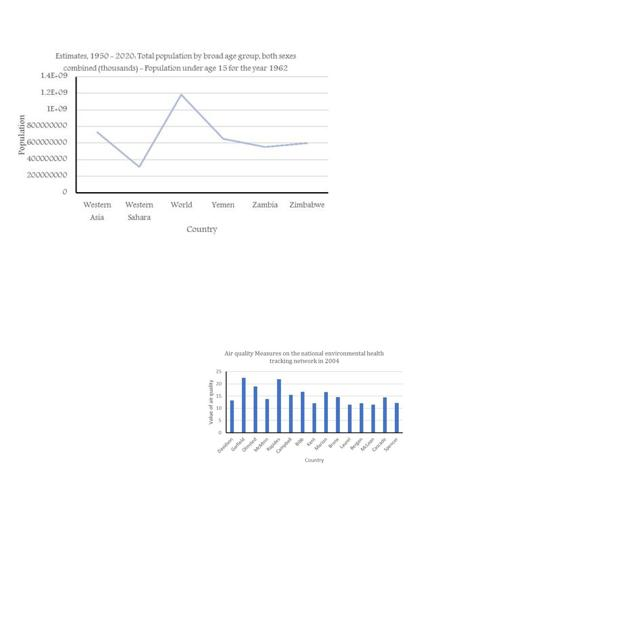Graph: (17, 49, 333, 236), (203, 347, 408, 467)
